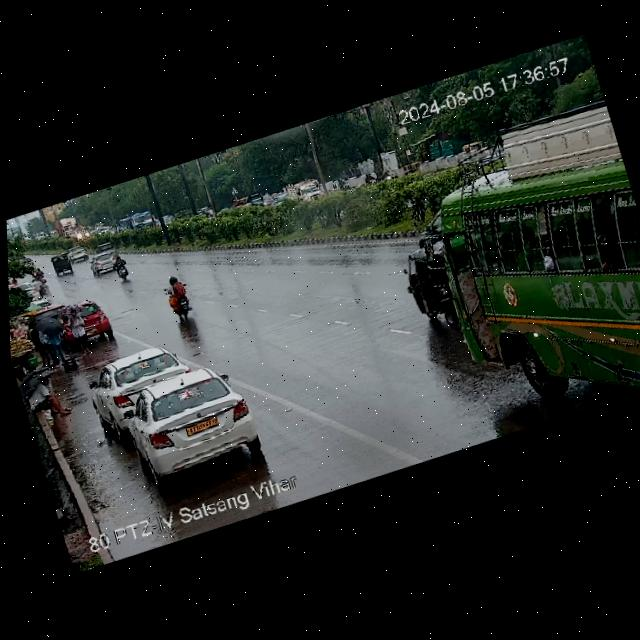bus: (409, 103, 640, 383)
car: (113, 358, 265, 490), (84, 336, 201, 443), (396, 240, 461, 334), (453, 133, 506, 170), (89, 248, 127, 276), (50, 250, 76, 276), (67, 243, 90, 262)
motorcycle: (57, 292, 118, 352), (157, 271, 202, 325), (109, 251, 135, 283), (30, 264, 48, 287), (334, 174, 351, 192), (363, 169, 376, 186)
person: (18, 298, 76, 374), (19, 361, 75, 428), (60, 299, 96, 359), (31, 277, 46, 298)
truck: (284, 174, 332, 209), (114, 206, 157, 235), (54, 212, 81, 240)
